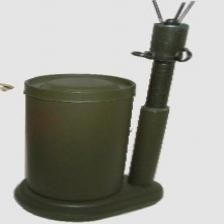M2A1: (0, 0, 222, 222)
